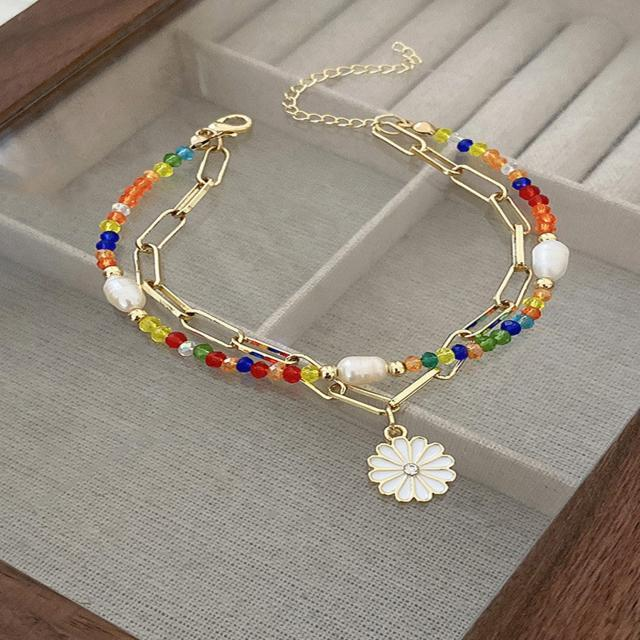bracelet: (43, 31, 640, 528)
